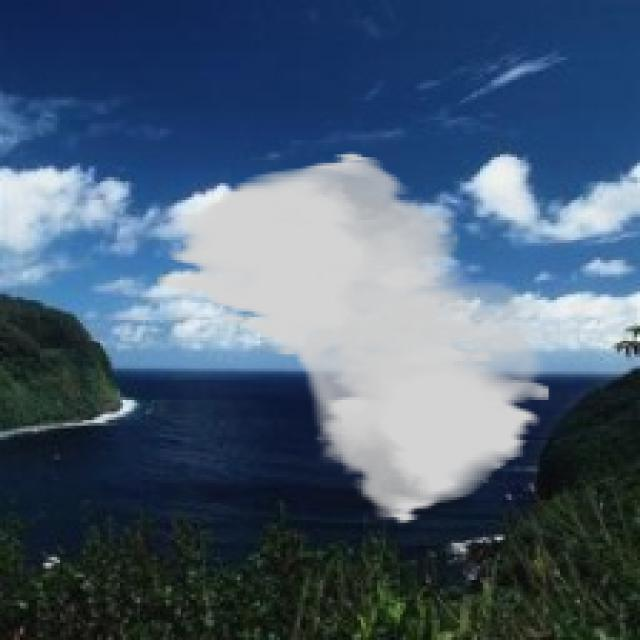smoke: (157, 151, 552, 526)
